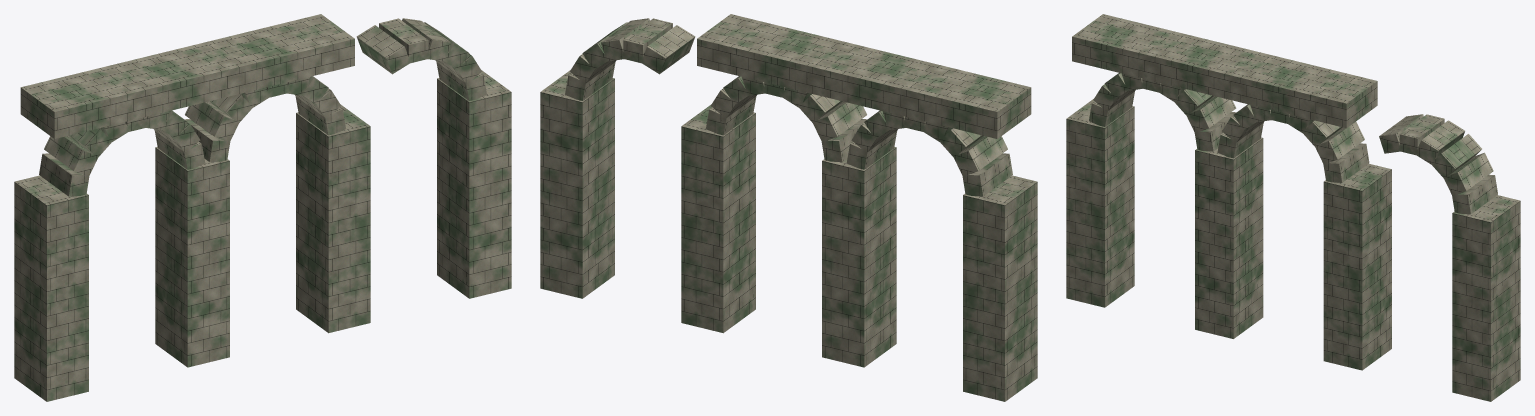
File: ruinas_muro.fbx
3 views of the same model, side by side, from view 1: azimuth 30°, elevation 25°; view 2: azimuth 150°, elevation 25°; view 3: azimuth 330°, elevation 25° (orthographic). The views are drawn at different scales.
Parts seen in each view (by area): view 1: ruinas_muro; view 2: ruinas_muro; view 3: ruinas_muro.
Part boxes in pixels (x1,y1,x2,y2): ruinas_muro: (14, 14, 511, 401); ruinas_muro: (540, 14, 1037, 401); ruinas_muro: (1066, 14, 1520, 401).
Bounding box in the file's own units: 9.9 × 5.88 × 1.25.
Materials: 1 (1 with a texture image).
